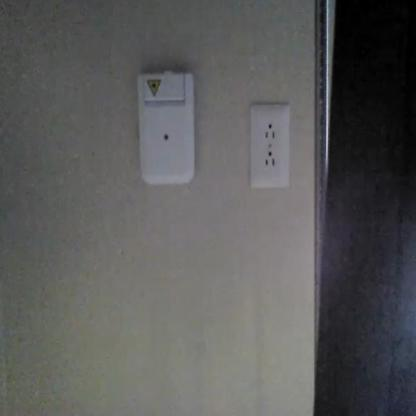OUTLET: (249, 104, 290, 190)
